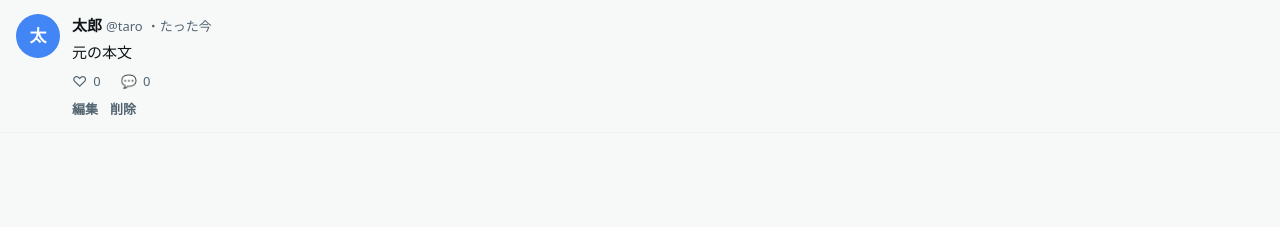
Scenario: PostCard › switches to a textarea prefilled with the body when editing starts
Step 1. Click the button "編集" → click(85, 108), box [72,99,98,118]
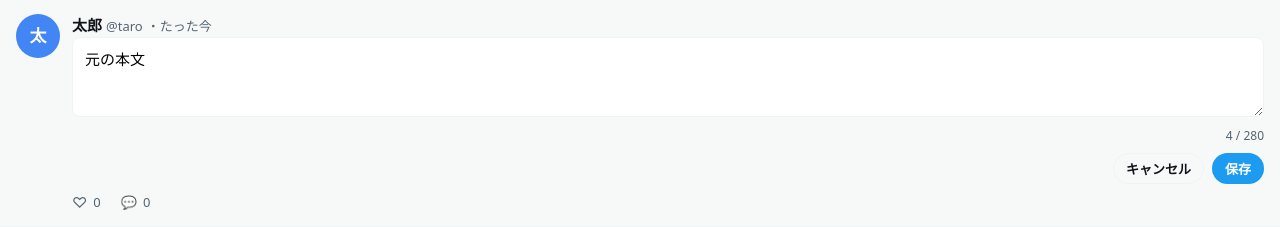
Check: the text box showing "元の本文" is shown, box [72,36,1264,116]
Check: the button "保存" is shown, box [1212,152,1264,184]
Check: the button "キャンセル" is shown, box [1113,152,1204,184]
